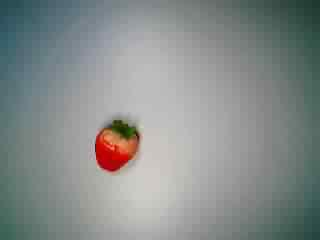strawberry: (89, 111, 148, 180)
